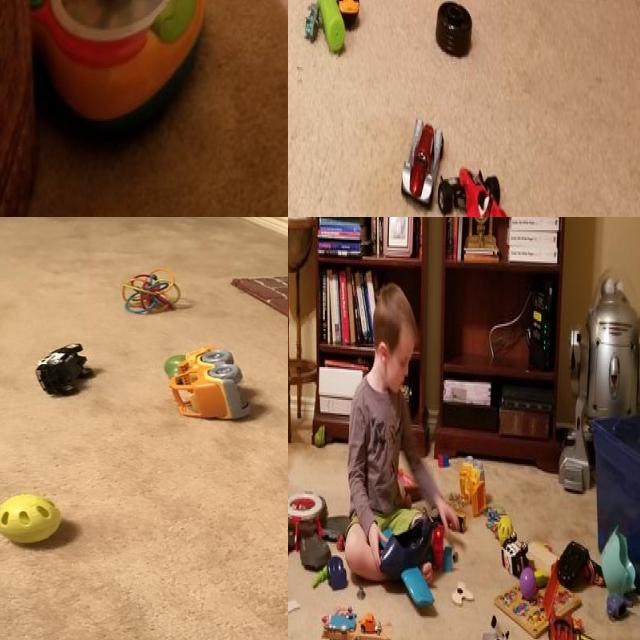toy: (19, 0, 215, 157), (161, 346, 257, 426), (439, 146, 523, 217), (379, 516, 442, 602), (394, 104, 443, 208), (30, 340, 100, 397), (0, 493, 68, 547), (319, 606, 420, 640), (553, 526, 593, 592), (120, 272, 182, 312), (459, 452, 490, 524), (432, 7, 476, 56), (314, 0, 349, 52), (458, 450, 488, 510), (497, 530, 528, 576), (605, 575, 628, 620), (299, 0, 321, 43), (547, 611, 577, 640), (325, 552, 347, 584), (521, 563, 538, 599), (330, 0, 359, 21), (482, 504, 502, 530), (497, 514, 514, 544)
